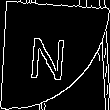N_N: (34, 28, 76, 82)
